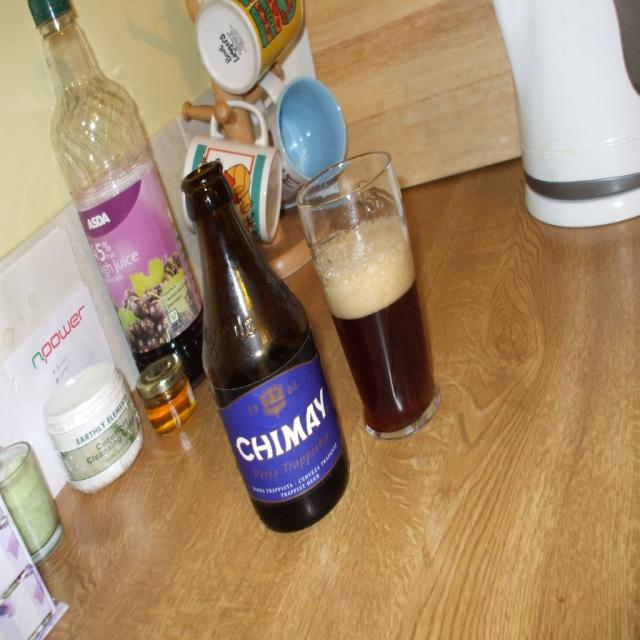chimay: (220, 356, 344, 504)
